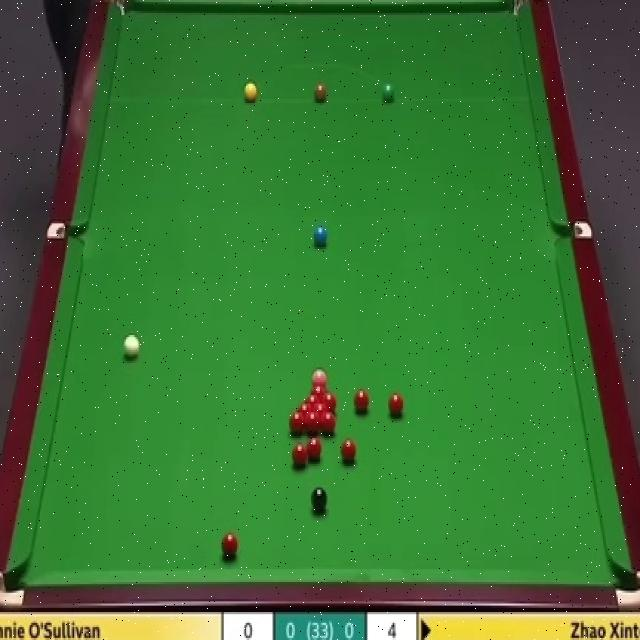black-ball: (311, 484, 328, 515)
blue-ball: (313, 225, 328, 250)
brown-ball: (313, 84, 328, 103)
green-ball: (381, 82, 396, 105)
pink-ball: (311, 368, 328, 383)
red-ball: (220, 530, 238, 561), (353, 387, 370, 415), (388, 392, 405, 419), (291, 442, 308, 468), (320, 412, 337, 436), (341, 439, 357, 464), (306, 437, 322, 461), (288, 412, 304, 435), (306, 411, 320, 433), (323, 393, 337, 413), (310, 384, 329, 395), (302, 393, 322, 403), (313, 402, 330, 412), (297, 402, 313, 412)
white-ball: (121, 332, 140, 364)
yellow-ball: (243, 81, 258, 104)
